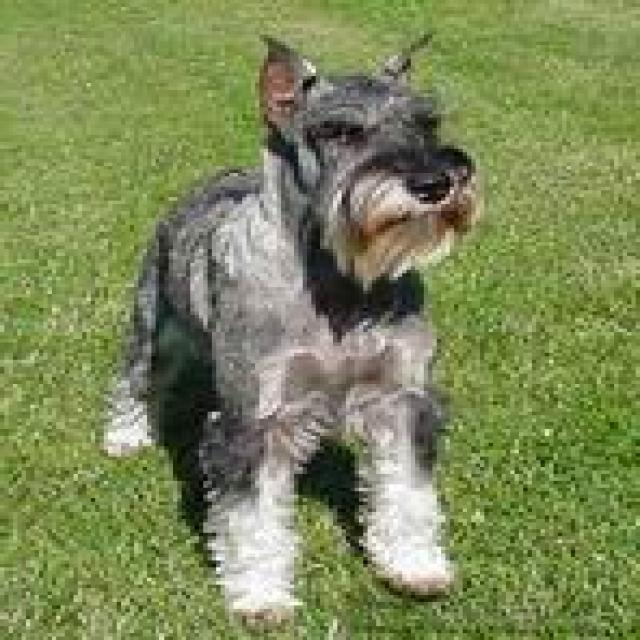standard_schnauzer: (100, 28, 484, 620)
